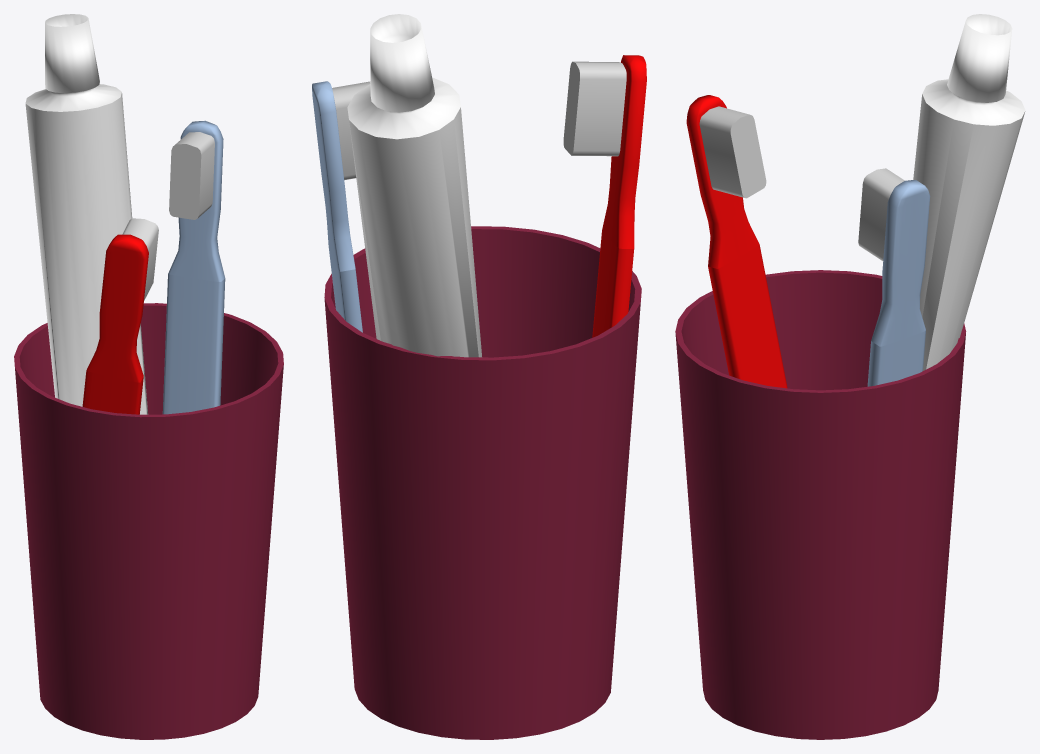
The model's file is potBrossesADent.obj.
3 renders of one model, left to right at view 1: azimuth 30°, elevation 25°; view 2: azimuth 150°, elevation 25°; view 3: azimuth 270°, elevation 25°, orthographic. The views are drawn at different scales.
Visible parts, largest first — view 1: verre, dentifrice, brosse_a_dent_2, brosse_a_dent_1, poil_2, poil_1; view 2: verre, dentifrice, brosse_a_dent_1, brosse_a_dent_2, poil_1, poil_2; view 3: verre, dentifrice, brosse_a_dent_1, brosse_a_dent_2, poil_1, poil_2.
Part boxes in pixels (left/top/right/bottom): verre: left=14, top=303, right=283, bottom=739; dentifrice: left=25, top=14, right=148, bottom=414; brosse_a_dent_2: left=162, top=120, right=225, bottom=414; brosse_a_dent_1: left=82, top=234, right=148, bottom=414; poil_2: left=169, top=132, right=214, bottom=219; poil_1: left=122, top=218, right=158, bottom=300; verre: left=324, top=226, right=641, bottom=739; dentifrice: left=347, top=14, right=481, bottom=357; brosse_a_dent_1: left=592, top=55, right=646, bottom=337; brosse_a_dent_2: left=312, top=81, right=362, bottom=332; poil_1: left=563, top=61, right=626, bottom=156; poil_2: left=332, top=81, right=370, bottom=180; verre: left=675, top=270, right=966, bottom=739; dentifrice: left=913, top=14, right=1025, bottom=370; brosse_a_dent_1: left=686, top=95, right=787, bottom=388; brosse_a_dent_2: left=867, top=180, right=930, bottom=386; poil_1: left=699, top=106, right=766, bottom=198; poil_2: left=858, top=168, right=904, bottom=260.
Bounding box in the file's own units: 7.2 × 18.23 × 8.67.
